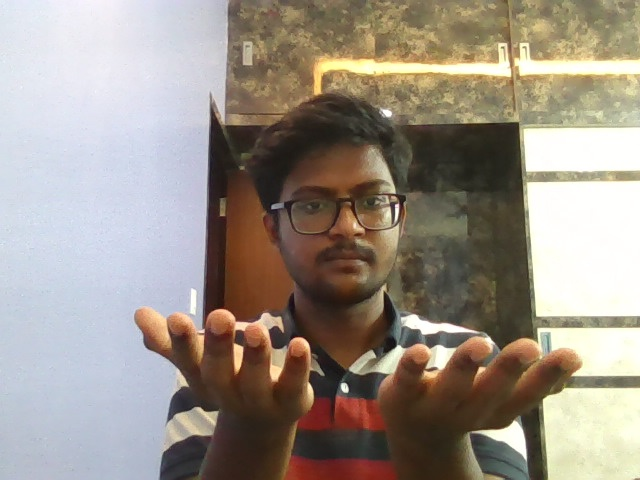what: (109, 297, 614, 468)
